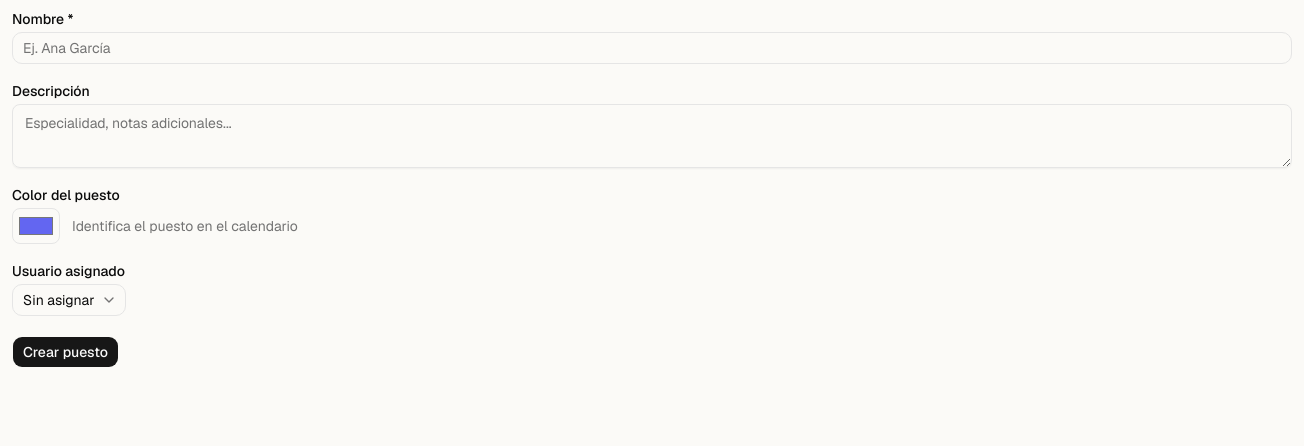
it: CreateChairForm — error del servidor › muestra error cuando el servidor falla
Type "Silla A" into the field labelled "Nombre *" at (652, 48), box [12,32,1292,64]
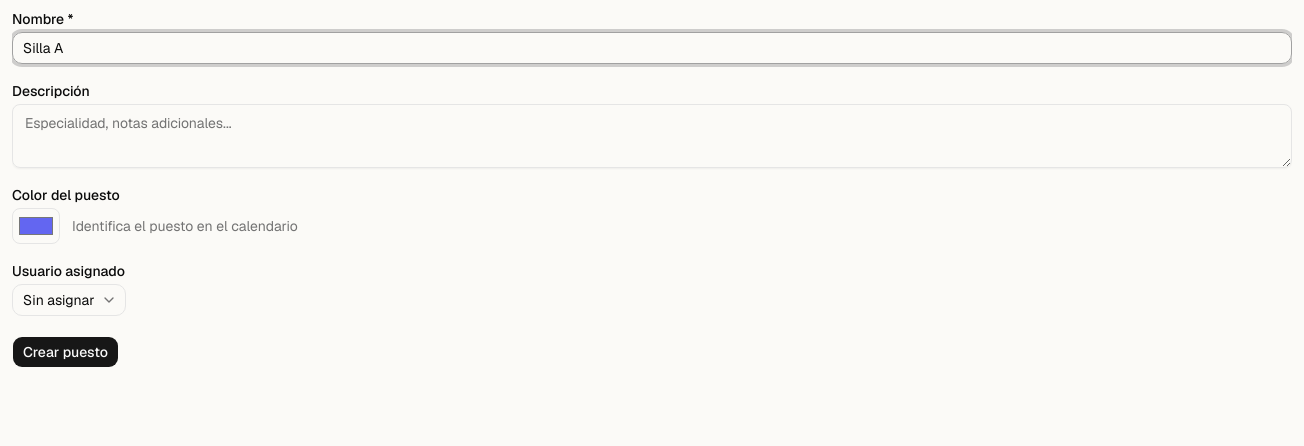
Click the button "Crear puesto" at (65, 352), box [12,336,119,368]
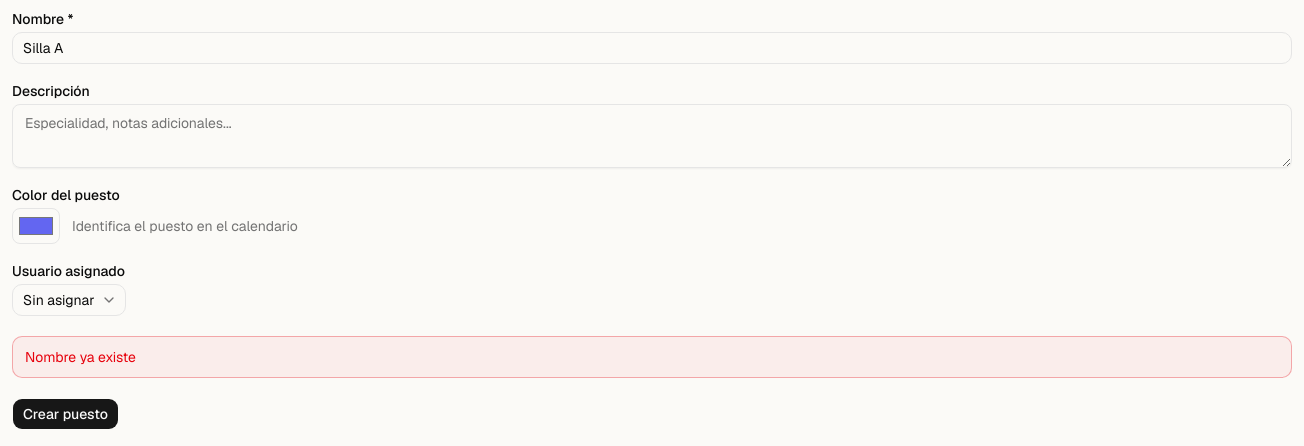
Result: the text "Nombre ya existe" is shown at [25,348,136,366]
